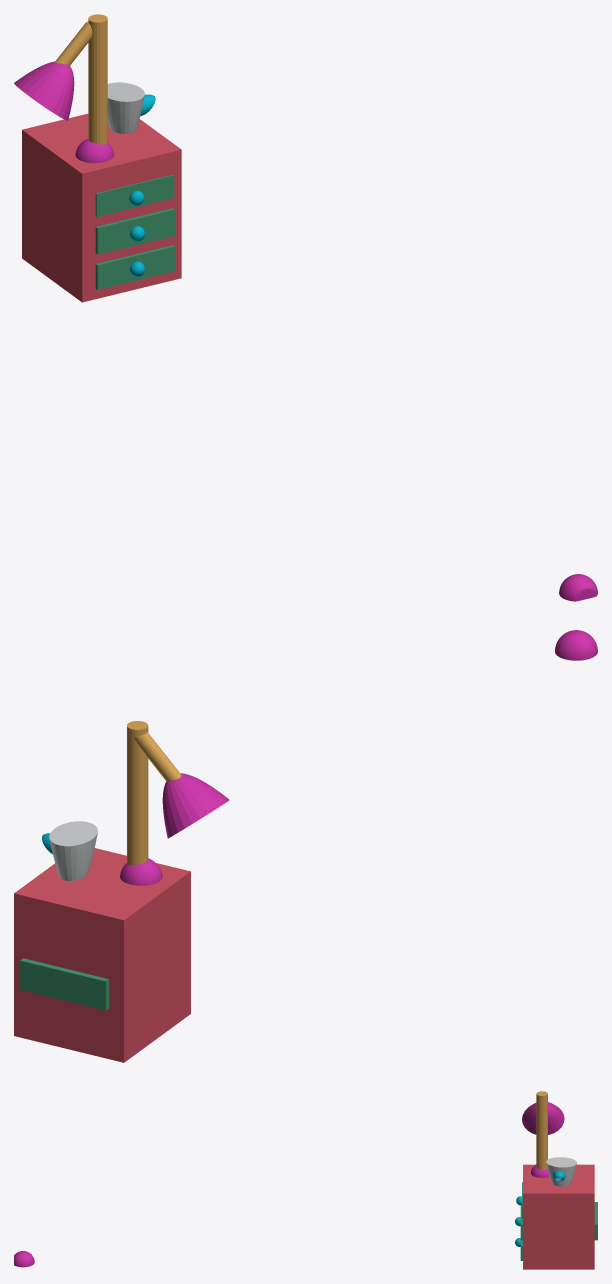
File: vro.glb
The picture shows the model from 3 angles, top to bottom: view 1: azimuth 30°, elevation 25°; view 2: azimuth 150°, elevation 25°; view 3: azimuth 270°, elevation 25°; orthographic projection. The views are drawn at different scales.
Visible parts, largest first — view 1: Mesh_Mesh_head_geo.001_lambert2SG.001; view 2: Mesh_Mesh_head_geo.001_lambert2SG.001; view 3: Mesh_Mesh_head_geo.001_lambert2SG.001.
Part boxes in pixels (x1=…): Mesh_Mesh_head_geo.001_lambert2SG.001: x1=14, y1=14, x2=597, y2=601; Mesh_Mesh_head_geo.001_lambert2SG.001: x1=14, y1=630, x2=597, y2=1062; Mesh_Mesh_head_geo.001_lambert2SG.001: x1=14, y1=1091, x2=597, y2=1269.
Bounding box in the file's own units: 87.78 × 150 × 507.
